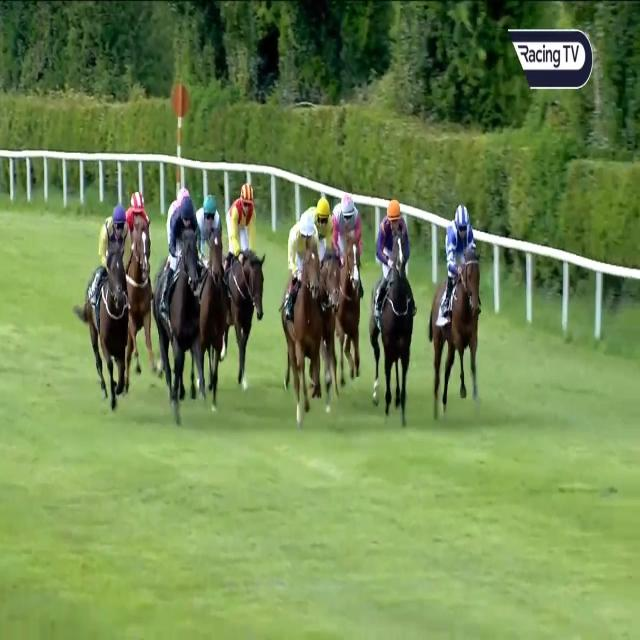horses-racing: (428, 203, 483, 417), (372, 194, 416, 410), (282, 207, 326, 418), (155, 196, 200, 402), (84, 200, 125, 397), (226, 177, 260, 392), (195, 186, 229, 400), (118, 184, 154, 379), (336, 187, 369, 384), (305, 186, 338, 257)
